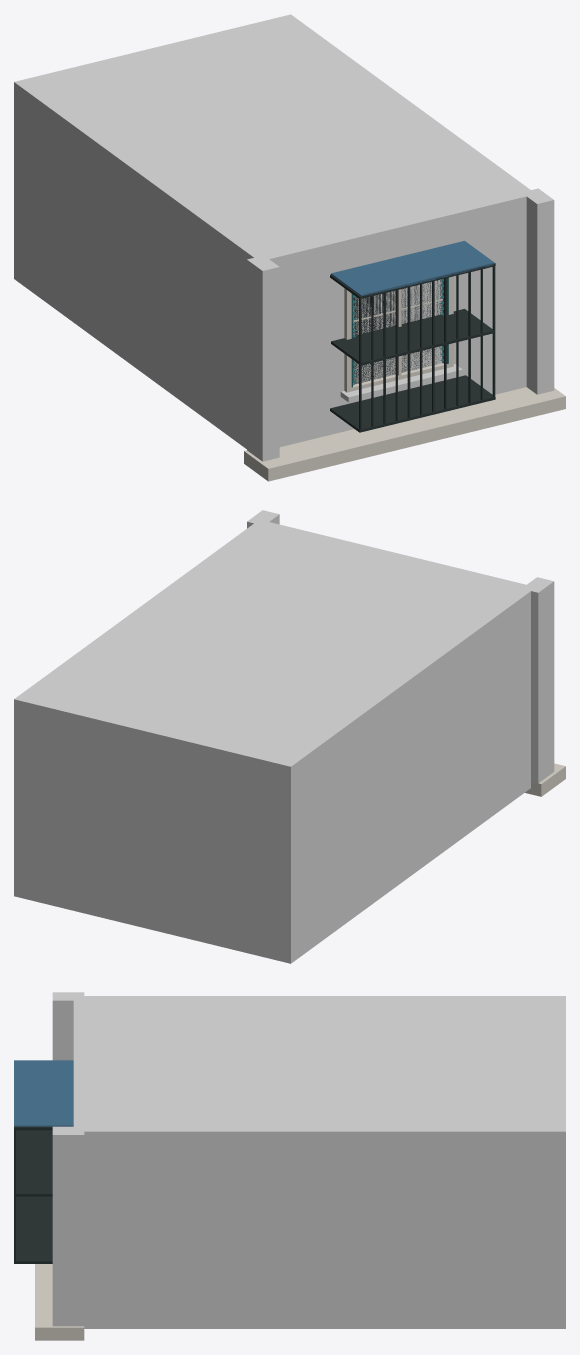
The model's file is lau_chuong_cop_48.glb.
The picture shows the model from 3 angles, top to bottom: view 1: azimuth 30°, elevation 25°; view 2: azimuth 150°, elevation 25°; view 3: azimuth 270°, elevation 25°; orthographic projection.
Parts seen in each view (by area): view 1: lau_chuong_cop_48; view 2: lau_chuong_cop_48; view 3: lau_chuong_cop_48.
Boxes of the visible parts, x1,y1,x2,y2 form: lau_chuong_cop_48: (14, 14, 565, 481); lau_chuong_cop_48: (14, 510, 565, 963); lau_chuong_cop_48: (14, 992, 565, 1340).
Bounding box in the file's own units: 4.9 × 3.2 × 7.85.
